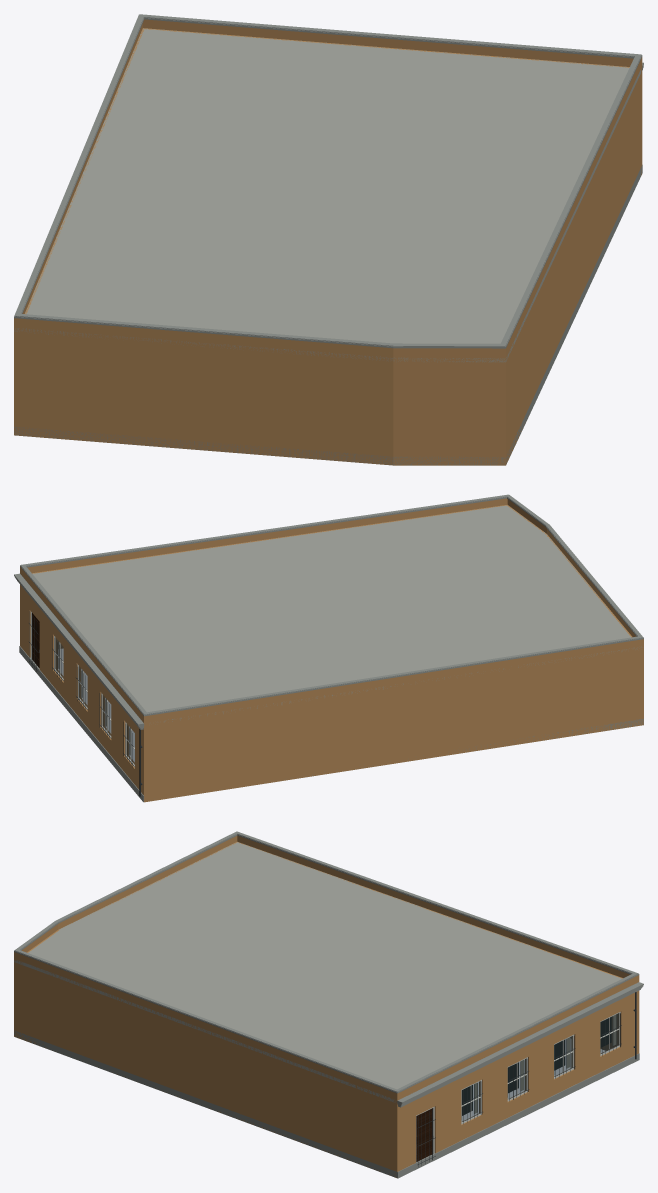
The model's file is building.glb.
The picture shows the model from 3 angles, top to bottom: view 1: azimuth 30°, elevation 25°; view 2: azimuth 150°, elevation 25°; view 3: azimuth 270°, elevation 25°; orthographic projection. The views are drawn at different scales.
Parts seen in each view (by area): view 1: roof/main:0/roof_slab#0001, main:0/edge0/z0/main:0/edge0/z0/wall_0_0, main:0/edge2/z0/main:0/edge2/z0/wall_0_0/core0, main:0/edge1/z0/main:0/edge1/z0/wall_0_0, roof/main:0/parapet#0001, roof/main:0/parapet_cap#0002, roof/main:0/parapet_cap#0001, main:0/edge0/z0/plinth#0001, main:0/edge2/z0/plinth#0001, main:0/edge3/z0/main:0/edge3/z0/wall_0_0/core0; view 2: roof/main:0/roof_slab#0001, main:0/edge4/z0/main:0/edge4/z0/wall_0_0/core0, roof/main:0/parapet#0001, main:0/edge3/z0/main:0/edge3/z0/wall_0_0/core0, roof/main:0/parapet_cap#0002, roof/main:0/parapet_cap#0001, main:0/edge3/z0/proj_cornice_00/cornice_drip#0001, main:0/edge3/z0/plinth#0001, main:0/edge2/z0/main:0/edge2/z0/wall_0_0/core0; view 3: roof/main:0/roof_slab#0001, main:0/edge2/z0/main:0/edge2/z0/wall_0_0/core0, main:0/edge3/z0/main:0/edge3/z0/wall_0_0/core0, roof/main:0/parapet#0001, roof/main:0/parapet_cap#0002, main:0/edge2/z0/plinth#0001, roof/main:0/parapet_cap#0001, main:0/edge3/z0/plinth#0001, main:0/edge3/z0/proj_cornice_00/cornice_drip#0001, main:0/edge3/z0/opening_u3.88_v0.95/glazing#0001, main:0/edge3/z0/opening_u6.68_v0.95/glazing#0001, main:0/edge4/z0/main:0/edge4/z0/wall_0_0/core0 (+2 smaller).
Boxes of the visible parts, bbox=[...] form: roof/main:0/roof_slab#0001: bbox=[14, 28, 642, 362]; main:0/edge0/z0/main:0/edge0/z0/wall_0_0: bbox=[14, 327, 393, 465]; main:0/edge2/z0/main:0/edge2/z0/wall_0_0/core0: bbox=[506, 74, 640, 464]; main:0/edge1/z0/main:0/edge1/z0/wall_0_0: bbox=[393, 357, 505, 465]; roof/main:0/parapet#0001: bbox=[14, 19, 642, 357]; roof/main:0/parapet_cap#0002: bbox=[14, 14, 641, 346]; roof/main:0/parapet_cap#0001: bbox=[14, 15, 642, 348]; main:0/edge0/z0/plinth#0001: bbox=[14, 427, 393, 465]; main:0/edge2/z0/plinth#0001: bbox=[506, 165, 642, 463]; main:0/edge3/z0/main:0/edge3/z0/wall_0_0/core0: bbox=[142, 28, 629, 67]; roof/main:0/roof_slab#0001: bbox=[22, 505, 641, 722]; main:0/edge4/z0/main:0/edge4/z0/wall_0_0/core0: bbox=[144, 646, 643, 802]; roof/main:0/parapet#0001: bbox=[20, 498, 643, 723]; main:0/edge3/z0/main:0/edge3/z0/wall_0_0/core0: bbox=[21, 586, 142, 793]; roof/main:0/parapet_cap#0002: bbox=[20, 494, 643, 714]; roof/main:0/parapet_cap#0001: bbox=[20, 497, 643, 716]; main:0/edge3/z0/proj_cornice_00/cornice_drip#0001: bbox=[14, 573, 144, 725]; main:0/edge3/z0/plinth#0001: bbox=[19, 646, 144, 802]; main:0/edge2/z0/main:0/edge2/z0/wall_0_0/core0: bbox=[32, 505, 507, 648]; roof/main:0/roof_slab#0001: bbox=[14, 842, 634, 1102]; main:0/edge2/z0/main:0/edge2/z0/wall_0_0/core0: bbox=[14, 959, 397, 1177]; main:0/edge3/z0/main:0/edge3/z0/wall_0_0/core0: bbox=[397, 992, 634, 1171]; roof/main:0/parapet#0001: bbox=[14, 835, 639, 1100]; roof/main:0/parapet_cap#0002: bbox=[14, 831, 638, 1092]; main:0/edge2/z0/plinth#0001: bbox=[14, 1030, 397, 1177]; roof/main:0/parapet_cap#0001: bbox=[14, 834, 639, 1093]; main:0/edge3/z0/plinth#0001: bbox=[397, 1053, 639, 1178]; main:0/edge3/z0/proj_cornice_00/cornice_drip#0001: bbox=[397, 982, 643, 1103]; main:0/edge3/z0/opening_u3.88_v0.95/glazing#0001: bbox=[461, 1081, 480, 1121]; main:0/edge3/z0/opening_u6.68_v0.95/glazing#0001: bbox=[507, 1059, 526, 1099]; main:0/edge4/z0/main:0/edge4/z0/wall_0_0/core0: bbox=[238, 842, 622, 1050].
Bounding box in the file's own units: 24.58 × 3.77 × 24.91.
9 materials, 1 textured.
